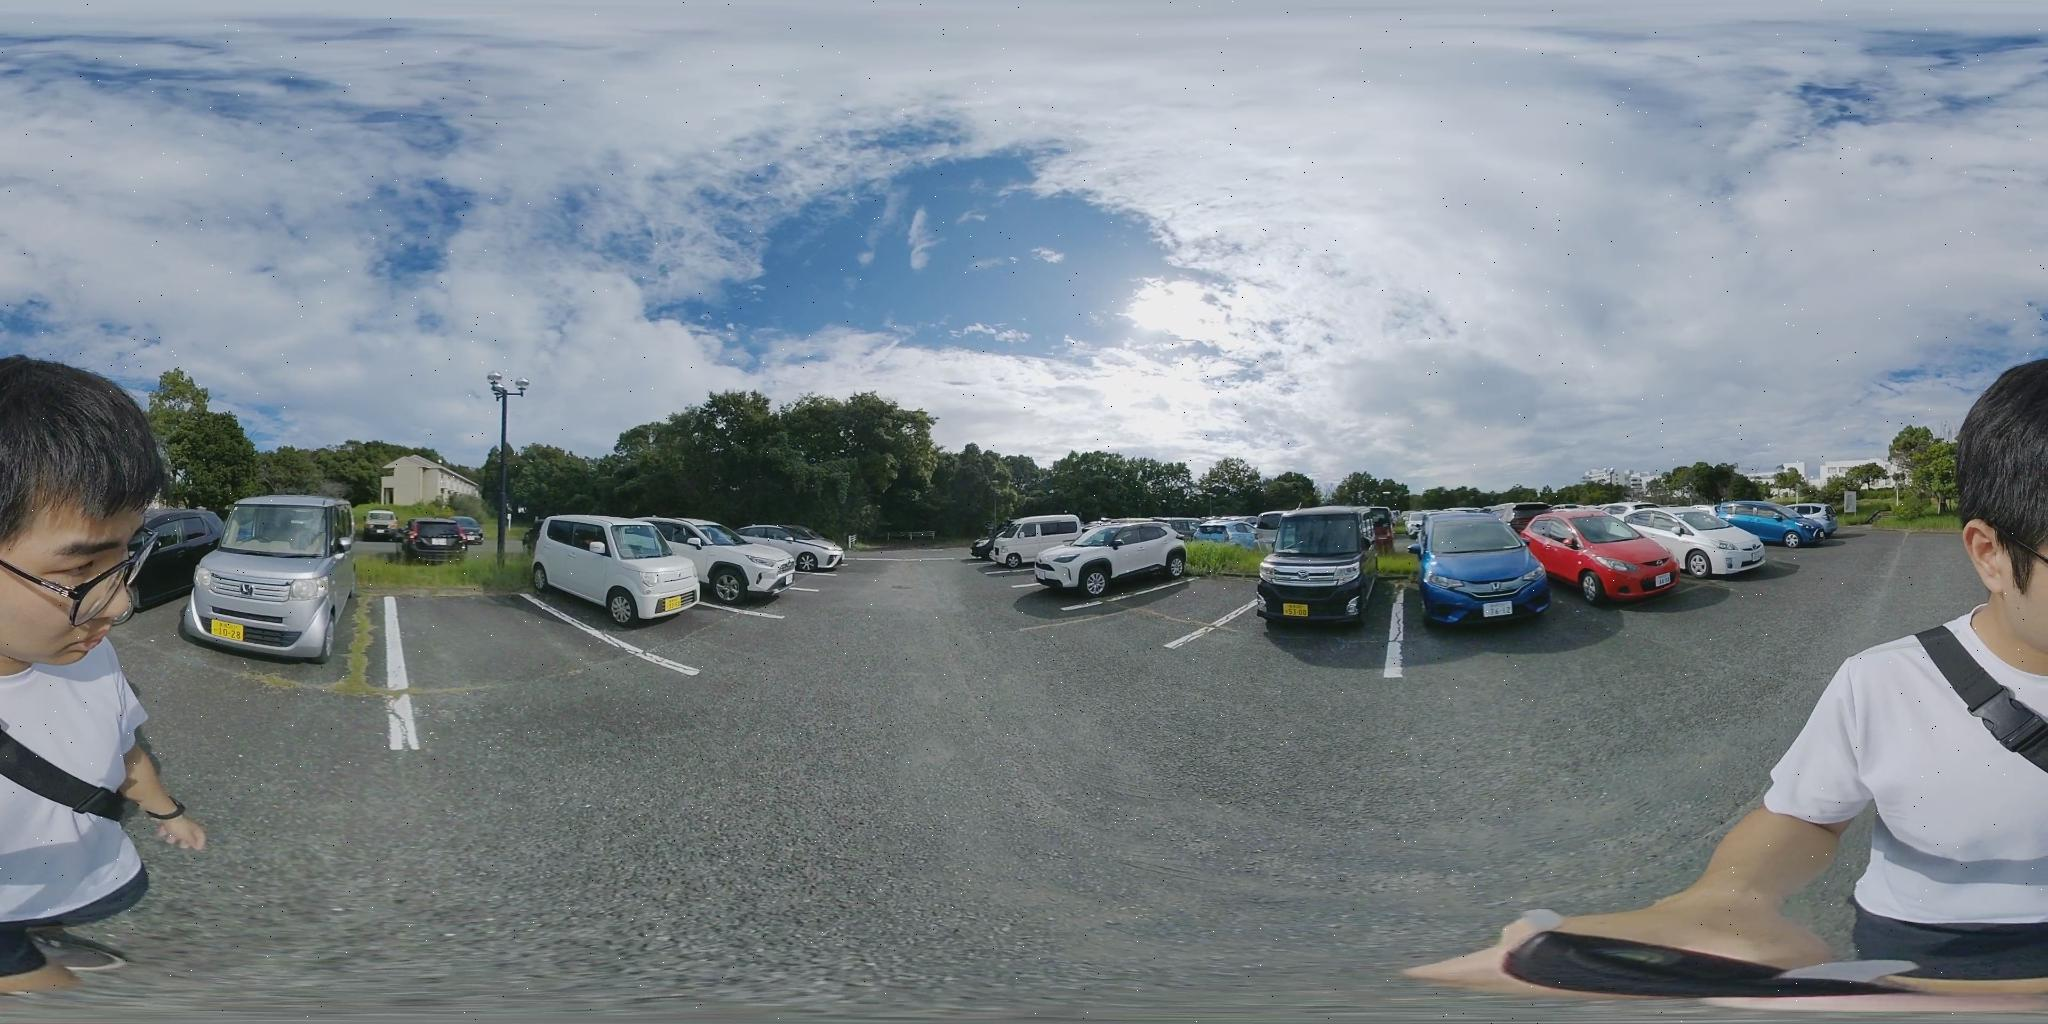car: (530, 516, 802, 627), (1405, 515, 1556, 624), (1522, 509, 1697, 602), (1256, 505, 1375, 636), (1025, 522, 1190, 600), (1621, 508, 1770, 575), (735, 525, 845, 572), (1716, 507, 1832, 547), (994, 517, 1081, 568), (404, 517, 481, 550)
